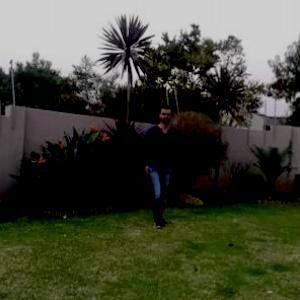follow: (144, 105, 176, 219)
